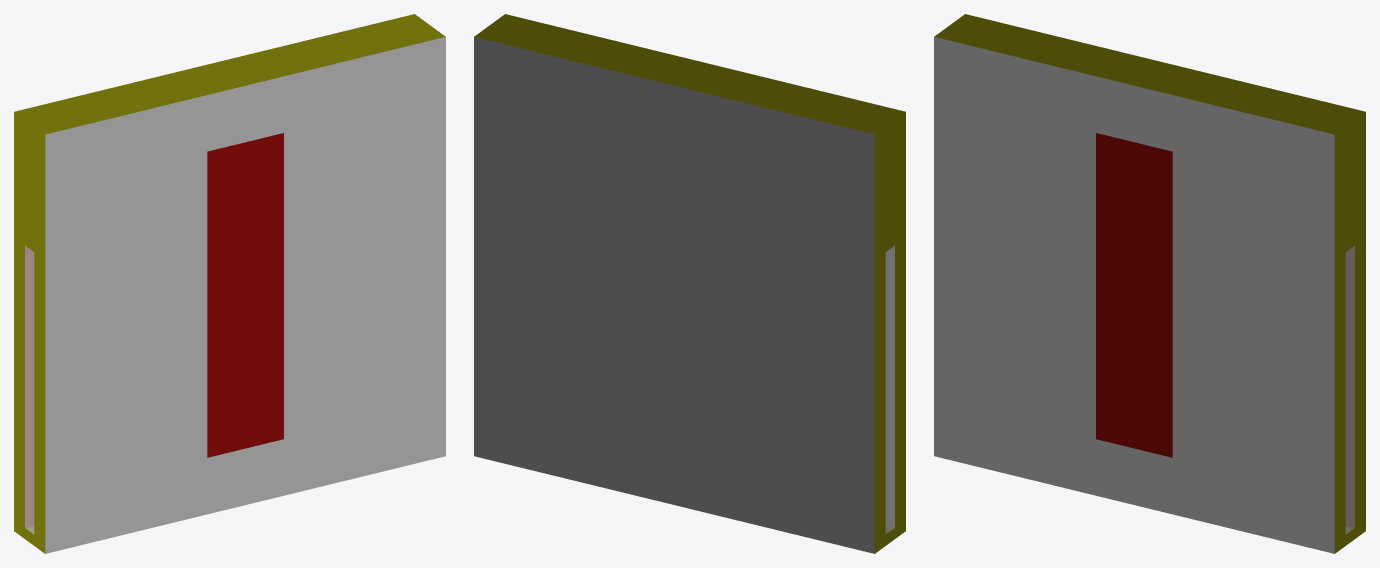
File: idf.obj
The picture shows the model from 3 angles, left to right: view 1: azimuth 30°, elevation 25°; view 2: azimuth 150°, elevation 25°; view 3: azimuth 330°, elevation 25°; orthographic projection.
Bounding box in the file's own units: 22.61 × 22.61 × 3.77.
